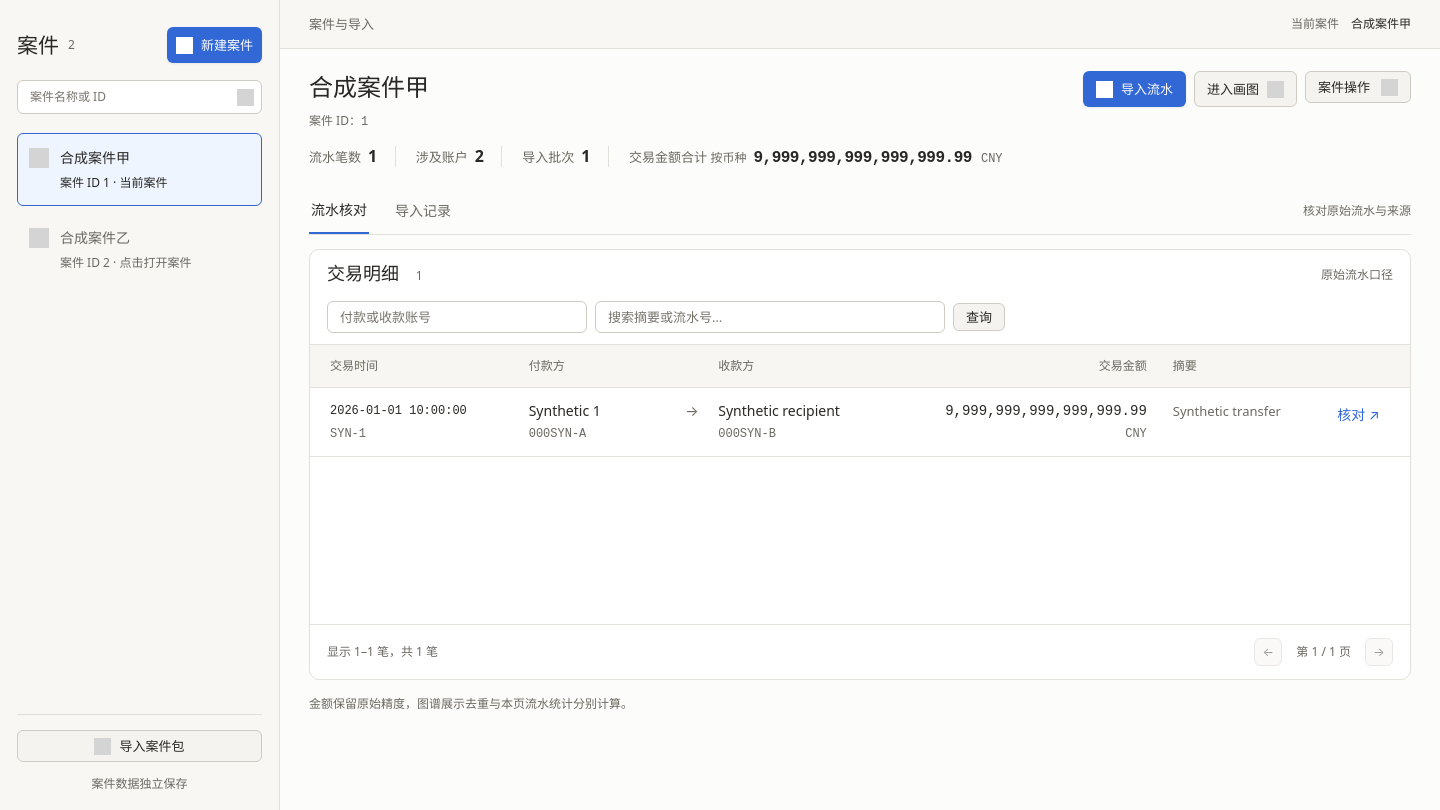
Test: FundsTrace case workspace › keeps a current operation error visible when the idle context precedes its result
The image size is (1440, 810).
Expected: the button with aria-label "核对流水 SYN-1" is shown, [1335,401,1382,429]
Click the button "合成案件乙 案件 ID 2 · 点击打开案件": (140,250) [17,213,262,286]
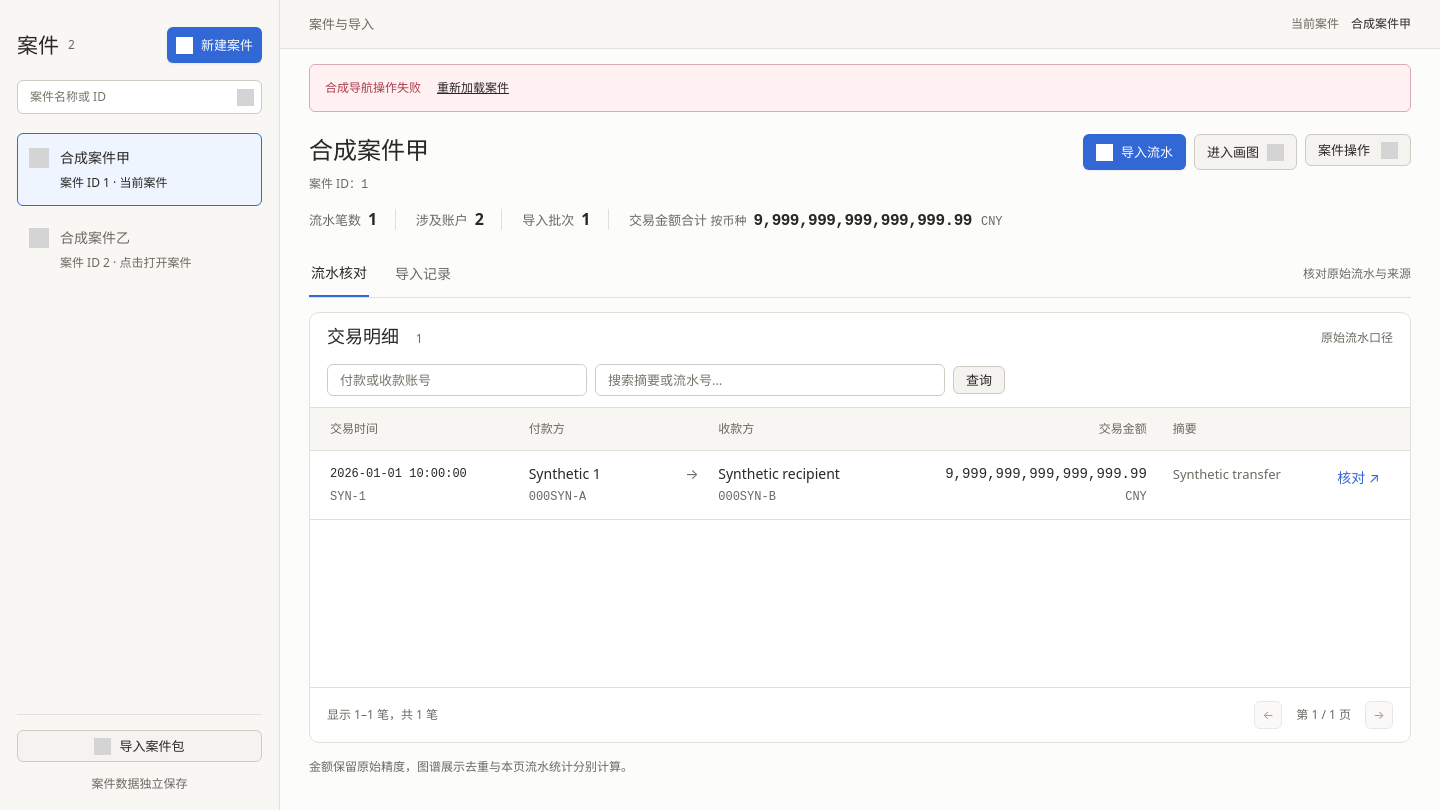
Result: the message shows "合成导航操作失败" at [325,79,421,96]
